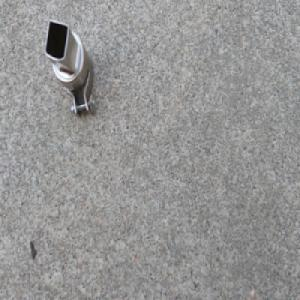MetalPart: (43, 16, 99, 121)
